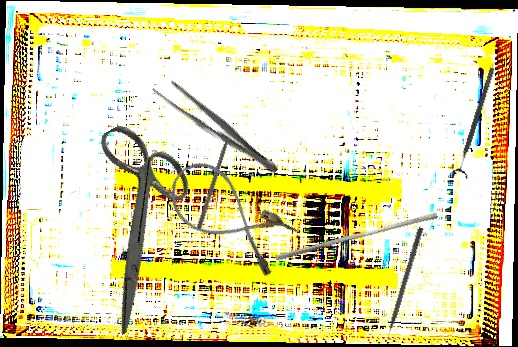Cannula: (157, 151, 302, 282)
Dressing Forceps: (149, 72, 285, 181)
Fixation Ring: (451, 65, 501, 180)
Iris Scissors: (37, 109, 237, 335)
Pusher: (274, 206, 439, 268), (381, 226, 424, 347), (195, 122, 237, 232)
